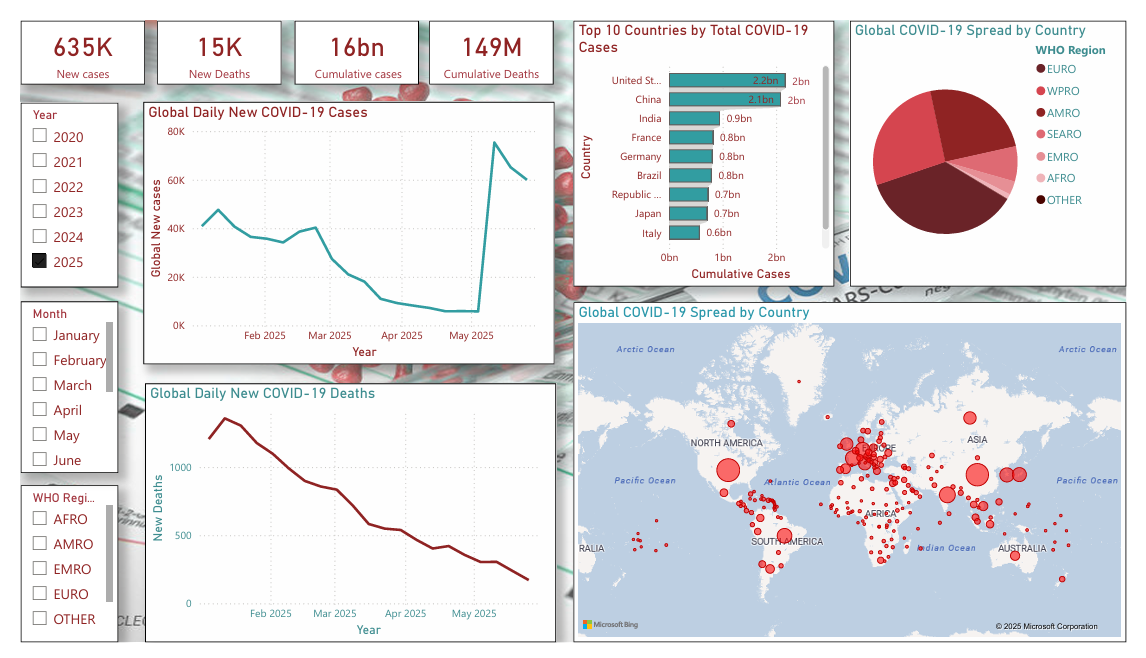

The dashboard page shown, as its layout file describes it:
{"tool":"powerbi","page":{"name":"Page 1","canvas":[1280,720],"ordinal":0},"visuals":[{"type":"lineChart","title":"Global Daily New COVID-19 Cases","fields":{"Y":["Sum(WHO_COVID19_cleaned.New_cases)"],"Category":["WHO_COVID19_cleaned.Date_reported.Variation.Date Hierarchy.Year","WHO_COVID19_cleaned.Date_reported.Variation.Date Hierarchy.Month","WHO_COVID19_cleaned.Date_reported.Variation.Date Hierarchy.Day"]},"box":[142,94,476,304],"z":0},{"type":"card","fields":{"Values":["Sum(WHO_COVID19_cleaned.New_cases)"]},"box":[0,0,144.1,74.1],"z":1000},{"type":"card","fields":{"Values":["Sum(WHO_COVID19_cleaned.New_deaths)"]},"box":[157.8,0,144.1,74.1],"z":2000},{"type":"card","fields":{"Values":["Sum(WHO_COVID19_cleaned.Cumulative_cases)"]},"box":[317,0,144.1,74.1],"z":3000},{"type":"card","fields":{"Values":["Sum(WHO_COVID19_cleaned.Cumulative_deaths)"]},"box":[473.4,0,144.1,74.1],"z":4000},{"type":"slicer","fields":{"Values":["WHO_COVID19_cleaned.Date_reported.Variation.Date Hierarchy.Year"]},"box":[0,94.7,112.5,214.1],"z":5000},{"type":"slicer","fields":{"Values":["WHO_COVID19_cleaned.WHO_region"]},"box":[0,537.9,112.5,182.5],"z":6000},{"type":"lineChart","title":"Global Daily New COVID-19 Deaths","fields":{"Category":["WHO_COVID19_cleaned.Date_reported.Variation.Date Hierarchy.Year","WHO_COVID19_cleaned.Date_reported.Variation.Date Hierarchy.Month","WHO_COVID19_cleaned.Date_reported.Variation.Date Hierarchy.Day"],"Y":["Sum(WHO_COVID19_cleaned.New_deaths)"]},"box":[144,420,476,300],"z":7000},{"type":"barChart","title":"Top 10 Countries by Total COVID-19 Cases","fields":{"Y":["Sum(WHO_COVID19_cleaned.Cumulative_cases)"],"Category":["WHO_COVID19_cleaned.Country"]},"box":[640,0,302,308],"z":8000},{"type":"slicer","fields":{"Values":["WHO_COVID19_cleaned.Date_reported.Variation.Date Hierarchy.Month"]},"box":[0,325.2,112.5,199],"z":9000},{"type":"pieChart","title":"Global COVID-19 Spread by Country","fields":{"Y":["Sum(WHO_COVID19_cleaned.Cumulative_cases)"],"Category":["WHO_COVID19_cleaned.WHO_region"]},"box":[960,0,320,308],"z":10000},{"type":"map","title":"Global COVID-19 Spread by Country","fields":{"Category":["WHO_COVID19_cleaned.Country"],"Size":["Sum(WHO_COVID19_cleaned.Cumulative_cases)"]},"box":[640,326,640,394],"z":11000}]}

Visuals, with their boxes in screenshot pixels (x1, y1, x2, y2), scaled from the page's 1280x720 canvas onto the 1146x658 screenshot:
"Global Daily New COVID-19 Cases" lineChart: {"x1": 127, "y1": 86, "x2": 553, "y2": 364}
card - Sum(WHO_COVID19_cleaned.New_cases): {"x1": 0, "y1": 0, "x2": 129, "y2": 68}
card - Sum(WHO_COVID19_cleaned.New_deaths): {"x1": 141, "y1": 0, "x2": 270, "y2": 68}
card - Sum(WHO_COVID19_cleaned.Cumulative_cases): {"x1": 284, "y1": 0, "x2": 413, "y2": 68}
card - Sum(WHO_COVID19_cleaned.Cumulative_deaths): {"x1": 424, "y1": 0, "x2": 553, "y2": 68}
slicer - WHO_COVID19_cleaned.Date_reported.Variation.Date Hierarchy.Year: {"x1": 0, "y1": 87, "x2": 101, "y2": 282}
slicer - WHO_COVID19_cleaned.WHO_region: {"x1": 0, "y1": 492, "x2": 101, "y2": 657}
"Global Daily New COVID-19 Deaths" lineChart: {"x1": 129, "y1": 384, "x2": 555, "y2": 657}
"Top 10 Countries by Total COVID-19 Cases" barChart: {"x1": 573, "y1": 0, "x2": 843, "y2": 281}
slicer - WHO_COVID19_cleaned.Date_reported.Variation.Date Hierarchy.Month: {"x1": 0, "y1": 297, "x2": 101, "y2": 479}
"Global COVID-19 Spread by Country" pieChart: {"x1": 860, "y1": 0, "x2": 1145, "y2": 281}
"Global COVID-19 Spread by Country" map: {"x1": 573, "y1": 298, "x2": 1145, "y2": 657}
